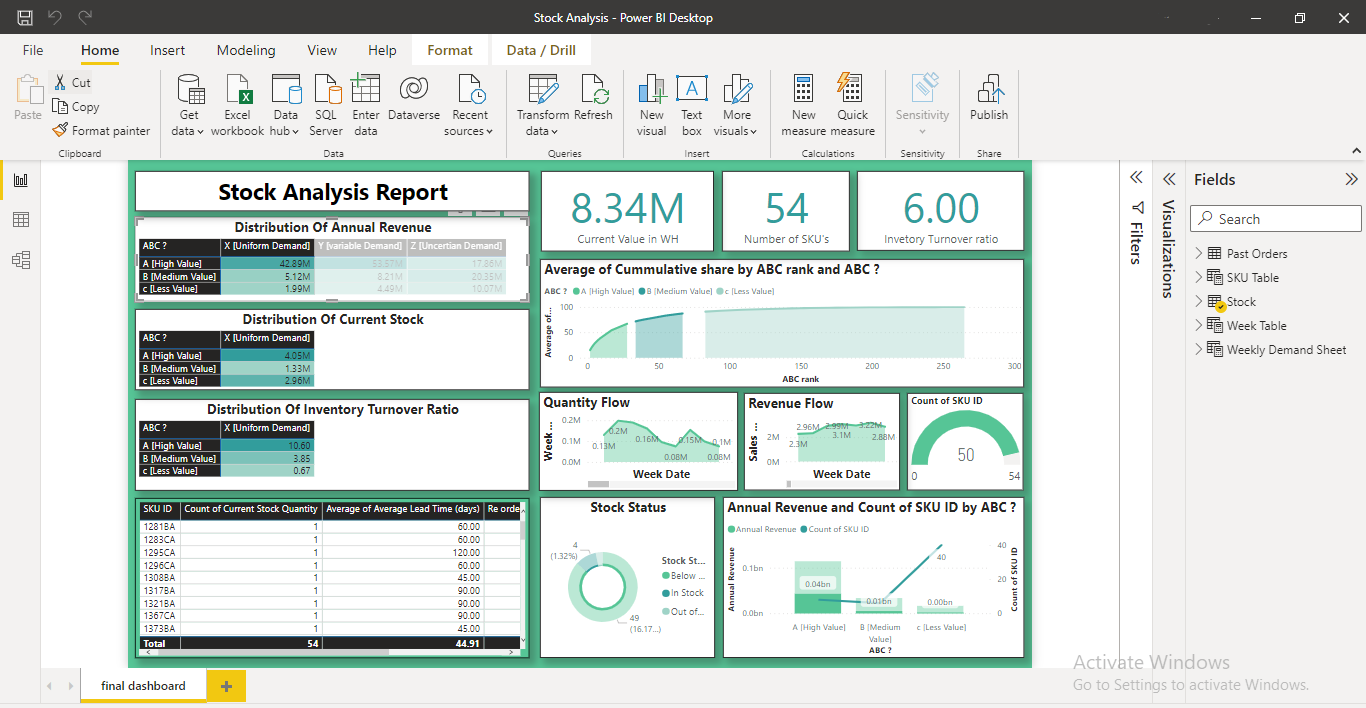

The dashboard page shown, as its layout file describes it:
{"tool":"powerbi","page":{"name":"final dashboard ","canvas":[1280,720],"ordinal":0},"visuals":[{"type":"areaChart","fields":{"Category":["Stock.ABC rank"],"Y":["Avg(Stock.Cummulative share)"],"Series":["Stock.ABC ?"]},"box":[583.7,139.9,686.2,182.1],"z":0},{"type":"pivotTable","title":"Distribution Of Annual Revenue","fields":{"Rows":["Stock.ABC ?"],"Columns":["Stock.XYZ ?"],"Values":["Sum(Stock.Annual Revenue)"]},"box":[9.5,80.9,559.3,120.2],"z":1000},{"type":"pivotTable","title":"Distribution Of Inventory Turnover Ratio","fields":{"Rows":["Stock.ABC ?"],"Columns":["Stock.XYZ ?"],"Values":["Stock.Invetory Turnover ratio"]},"box":[9.5,339.2,559.3,129.7],"z":2000},{"type":"pivotTable","title":"Distribution Of Current Stock","fields":{"Rows":["Stock.ABC ?"],"Columns":["Stock.XYZ ?"],"Values":["Sum(Stock.Value in WH)"]},"box":[9.5,211.8,559.3,115.4],"z":3000},{"type":"card","fields":{"Values":["Stock.Invetory Turnover ratio"]},"box":[1033,15.5,236.8,113.1],"z":4000},{"type":"card","fields":{"Values":["CountNonNull(Stock.SKU ID)"]},"box":[842.6,15.5,180.9,114.2],"z":5000},{"type":"card","fields":{"Values":["Sum(Stock.Value in WH)"]},"box":[585.5,15.5,245.2,114.2],"z":6000},{"type":"tableEx","fields":{"Values":["Stock.SKU ID","Stock.Current Stock Quantity","Stock.Average Lead Time (days)","Stock.Re order point","Stock.Safety Stock","Stock.Stock Status"]},"box":[9.5,478.4,559.3,227.3],"z":7000},{"type":"gauge","title":"Count of SKU ID","fields":{"Y":["Stock.SKUs to Reorder"],"MaxValue":["Count(Stock.SKU ID)"]},"box":[1104.4,330.8,165.4,138],"z":8000},{"type":"donutChart","title":"Stock Status","fields":{"Y":["CountNonNull(Stock.SKU ID)"],"Category":["Stock.Stock Status"]},"box":[583.7,477.6,248.4,227.9],"z":9000},{"type":"areaChart","title":"Quantity Flow","fields":{"Category":["Weekly Demand Sheet.Week Date"],"Y":["Sum(Weekly Demand Sheet.Weeks Demand)"]},"box":[583.1,328.5,282,140.4],"z":10000},{"type":"areaChart","title":"Revenue Flow","fields":{"Y":["Sum(Weekly Demand Sheet.Sales Amount)"],"Category":["Weekly Demand Sheet.Week Date"]},"box":[873.5,329.7,221.4,138],"z":11000},{"type":"lineStackedColumnComboChart","fields":{"Category":["Stock.ABC ?"],"Y":["Sum(Stock.Annual Revenue)"],"Y2":["CountNonNull(Stock.SKU ID)"]},"box":[843,477.6,426.9,227.9],"z":12000},{"type":"textbox","box":[9.5,15.5,559.3,57.1],"z":13000}]}

Visuals, with their boxes on the page's 1280x720 design canvas (x1, y1, x2, y2). These are canvas units, not pixel positions in the 1366x708 screenshot, which may show the page scaled, cropped or inside an application window:
areaChart - Stock.ABC rank x Avg(Stock.Cummulative share): 584 140 1270 322
"Distribution Of Annual Revenue" pivotTable: 10 81 569 201
"Distribution Of Inventory Turnover Ratio" pivotTable: 10 339 569 469
"Distribution Of Current Stock" pivotTable: 10 212 569 327
card - Stock.Invetory Turnover ratio: 1033 16 1270 129
card - CountNonNull(Stock.SKU ID): 843 16 1024 130
card - Sum(Stock.Value in WH): 586 16 831 130
tableEx - Stock.SKU ID x Stock.Current Stock Quantity: 10 478 569 706
"Count of SKU ID" gauge: 1104 331 1270 469
"Stock Status" donutChart: 584 478 832 706
"Quantity Flow" areaChart: 583 328 865 469
"Revenue Flow" areaChart: 874 330 1095 468
lineStackedColumnComboChart - Stock.ABC ? x Sum(Stock.Annual Revenue): 843 478 1270 706
textbox: 10 16 569 73
